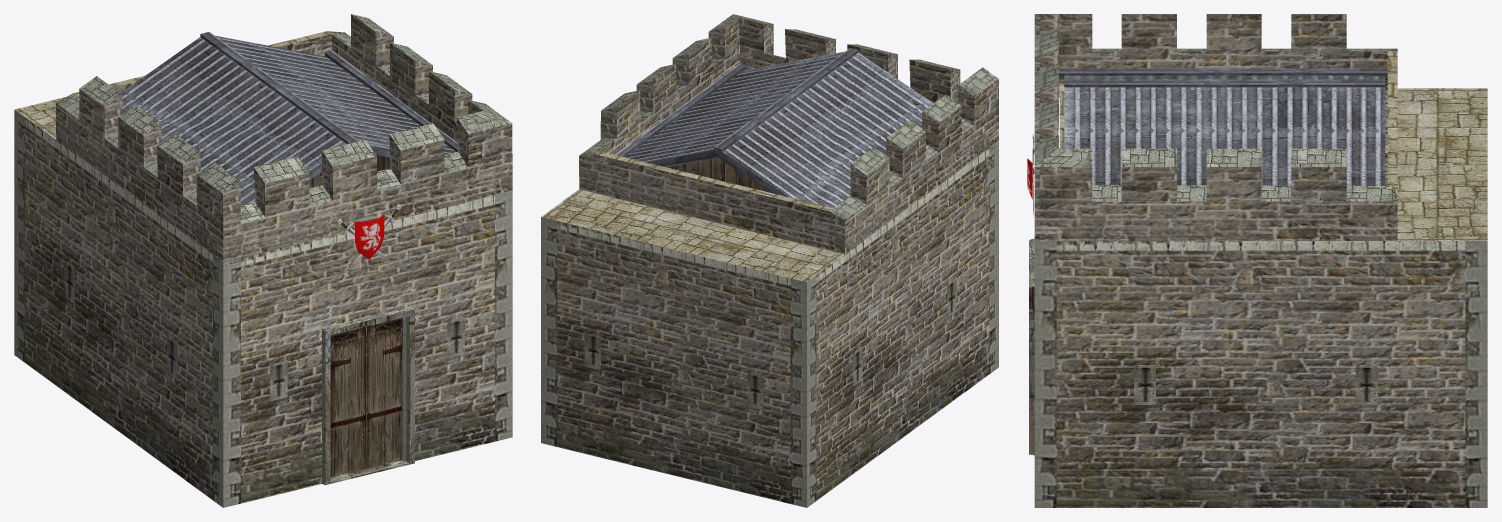
File: building_armoury.glb
3 renders of one model, left to right at view 1: azimuth 30°, elevation 25°; view 2: azimuth 150°, elevation 25°; view 3: azimuth 270°, elevation 25°, orthographic. The views are drawn at different scales.
Parts seen in each view (by area): view 1: building_armoury; view 2: building_armoury; view 3: building_armoury.
Part boxes in pixels (x1,y1,x2,y2): building_armoury: (14, 14, 512, 507); building_armoury: (541, 14, 998, 507); building_armoury: (1027, 14, 1487, 507).
Size of the model in its own units: 8.2 by 8.74 by 10.41.
Materials: 8 (8 with a texture image).
